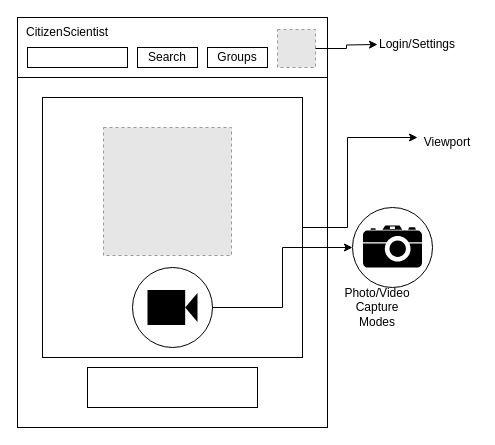
Image size: 495x445. Some labels were removed from this diagram. Grey dashed boxes stand in for pictures. The centre of each missing label's shape, as x and y in pixels:
"Identification" goes at point 77,57.
"Plant Info: Common/Latin Name, Region, Requirements, Etc" goes at point 172,387.
